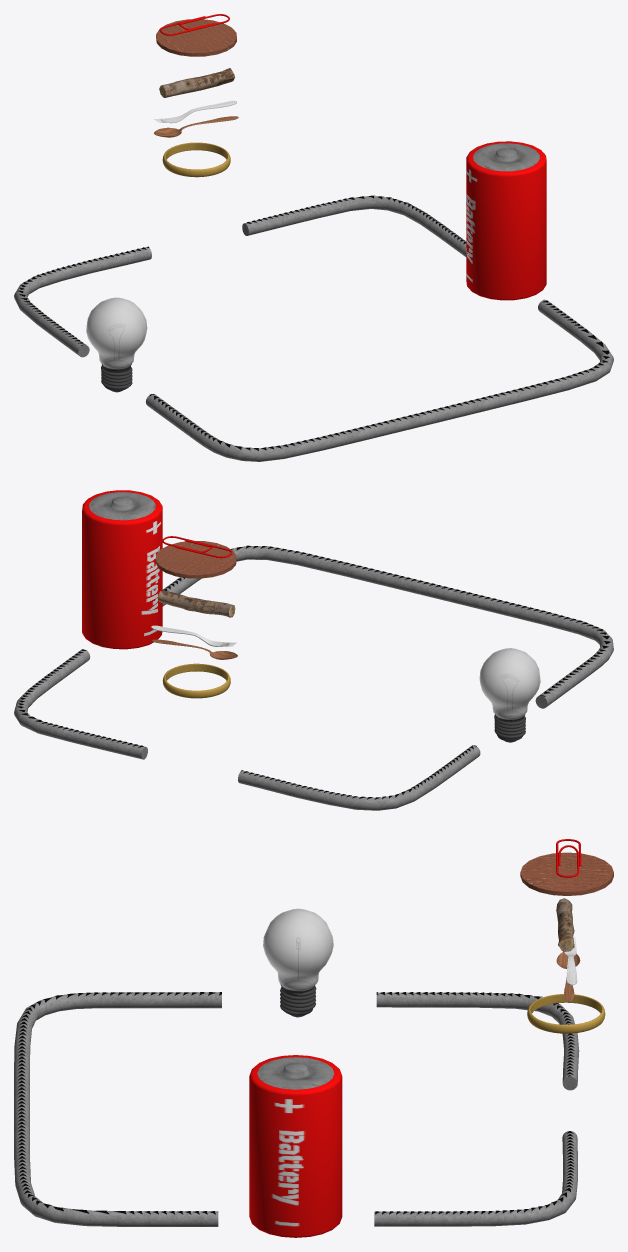
Rendered from electric circuit.fbx.
3 renders of one model, top to bottom at view 1: azimuth 30°, elevation 25°; view 2: azimuth 150°, elevation 25°; view 3: azimuth 270°, elevation 25°, orthographic. The views are drawn at different scales.
Visible parts, largest first — view 1: metal_circuits1, battry1, lamp1, coin, arrows_postive, ring, wood1, arrow_negative; view 2: metal_circuits1, battry1, lamp1, coin, ring, wood1, arrows_postive, arrow_negative; view 3: battry1, metal_circuits1, lamp1, coin, arrows_postive, ring, arrow_negative, wood1.
Boxes of the visible parts, <box> form: metal_circuits1: <box>14,196,613,461</box>; battry1: <box>466,141,546,300</box>; lamp1: <box>86,297,147,392</box>; coin: <box>156,19,236,56</box>; arrows_postive: <box>149,299,609,450</box>; ring: <box>162,142,230,177</box>; wood1: <box>159,68,234,97</box>; arrow_negative: <box>17,195,466,345</box>; metal_circuits1: <box>14,546,613,810</box>; battry1: <box>82,490,162,649</box>; lamp1: <box>479,648,540,742</box>; coin: <box>155,541,236,578</box>; ring: <box>162,663,230,698</box>; wood1: <box>158,590,235,617</box>; arrows_postive: <box>163,545,610,696</box>; arrow_negative: <box>17,649,476,799</box>; battry1: <box>249,1055,342,1237</box>; metal_circuits1: <box>14,992,579,1226</box>; lamp1: <box>263,908,333,1017</box>; coin: <box>520,852,613,895</box>; arrows_postive: <box>18,992,221,1214</box>; ring: <box>527,994,605,1033</box>; arrow_negative: <box>375,992,574,1214</box>; wood1: <box>556,898,574,951</box>.
Bounding box in the file's own units: 22.9 × 11.49 × 23.
Materials: 13 (8 with a texture image).
